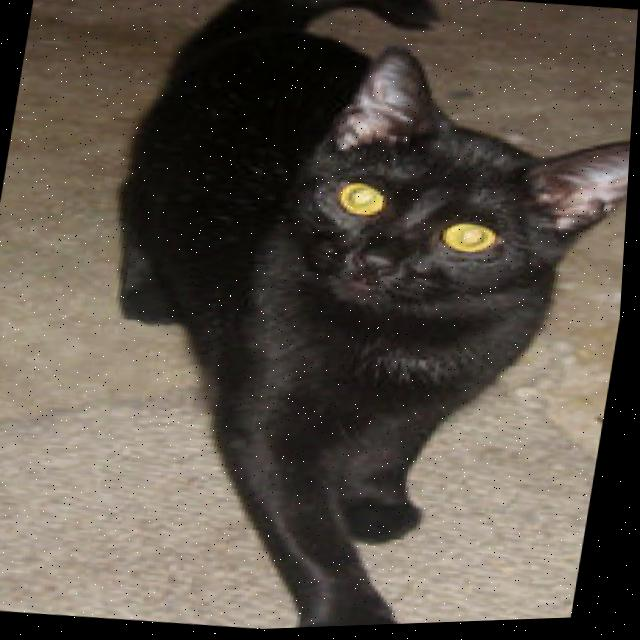Bombay: (49, 0, 640, 638)
